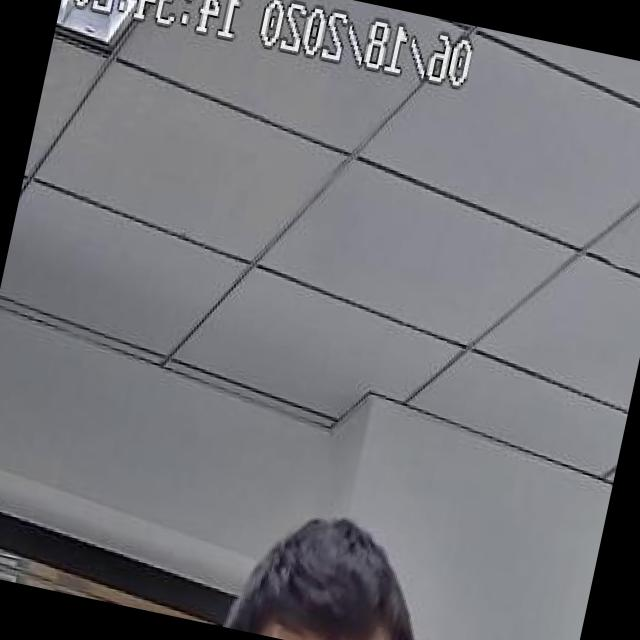Guns: (557, 407, 628, 640)
